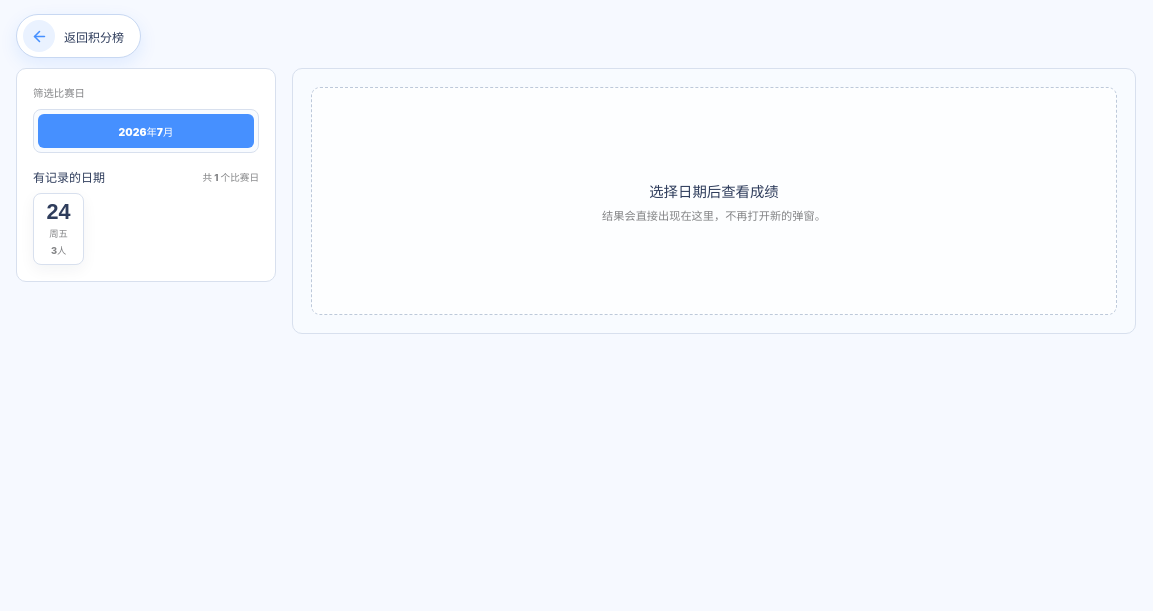
Scenario: filters a date before showing the member result cards
Expected: the button "返回积分榜" is shown, [16, 14, 141, 58]
Expected: the text "选择日期后查看成绩" is shown, [649, 180, 779, 200]
Step 1. Click the button with aria-label "查看 2026年7月24日积分" → {"x": 59, "y": 229}, box [33, 193, 84, 265]
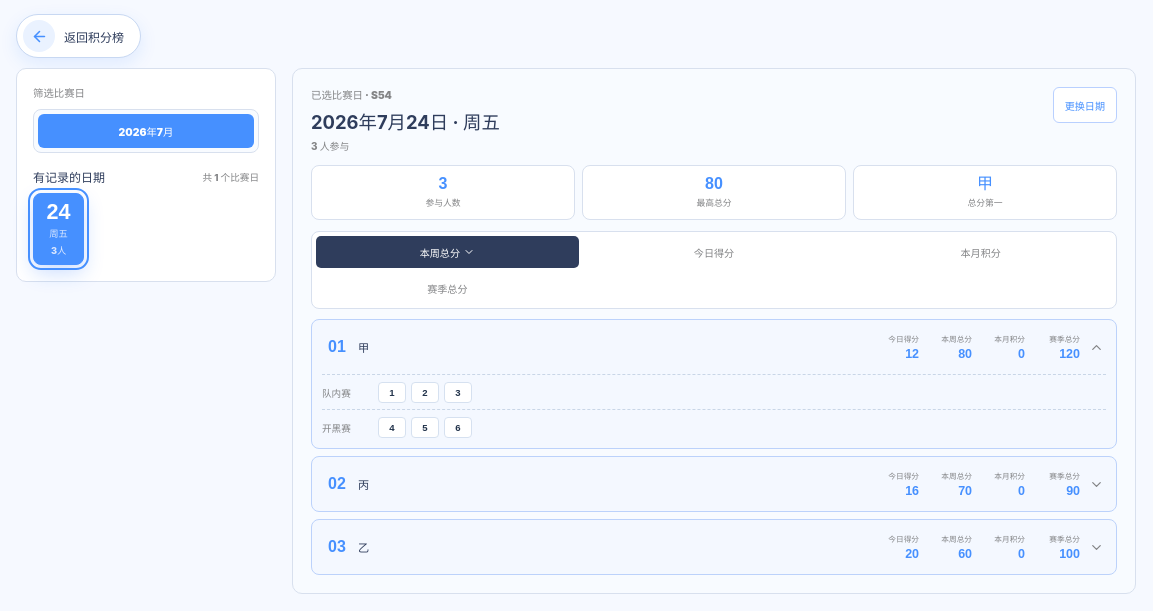
Expected: the number of elements with test id "score-query-row" is 3, [311, 319, 1117, 449]; [311, 456, 1117, 512]; [311, 519, 1117, 575]
Expected: the element with test id "score-query-row" shows "甲", [312, 320, 1116, 374]
Expected: the 1st text "今日得分" is shown, [888, 335, 919, 344]
